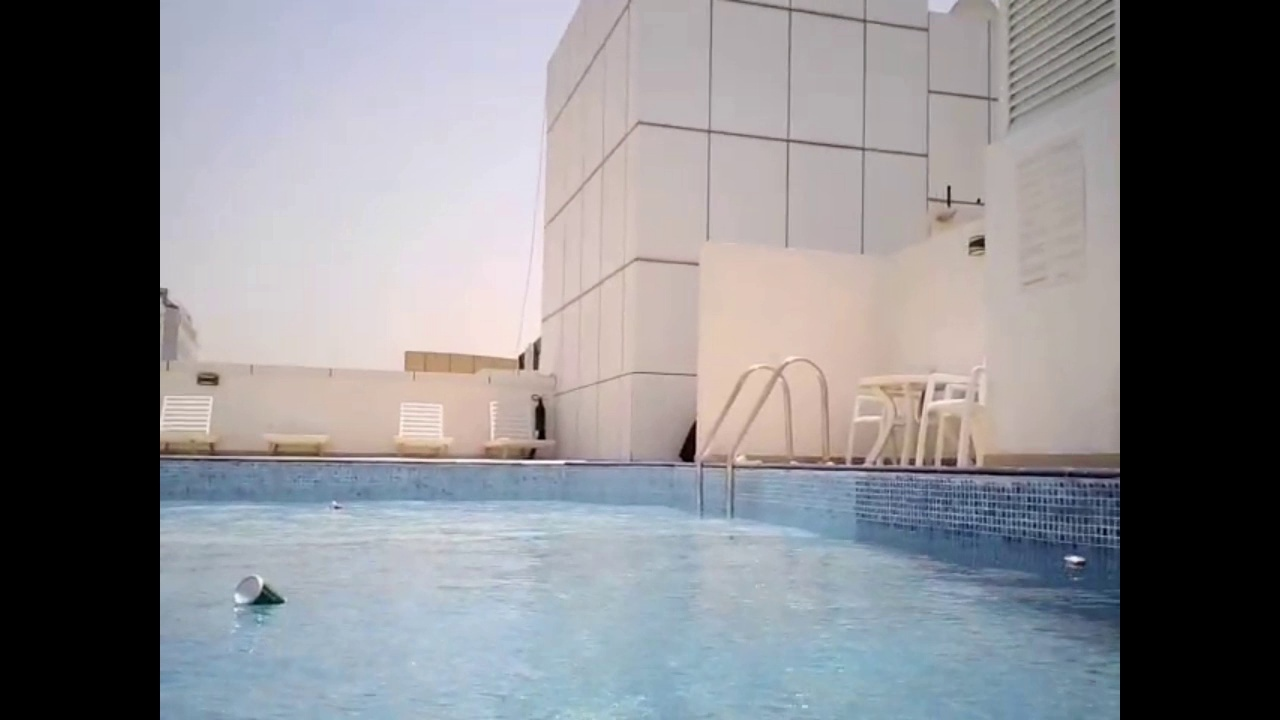debris: (226, 574, 291, 620), (1058, 550, 1091, 586), (325, 497, 346, 515)
